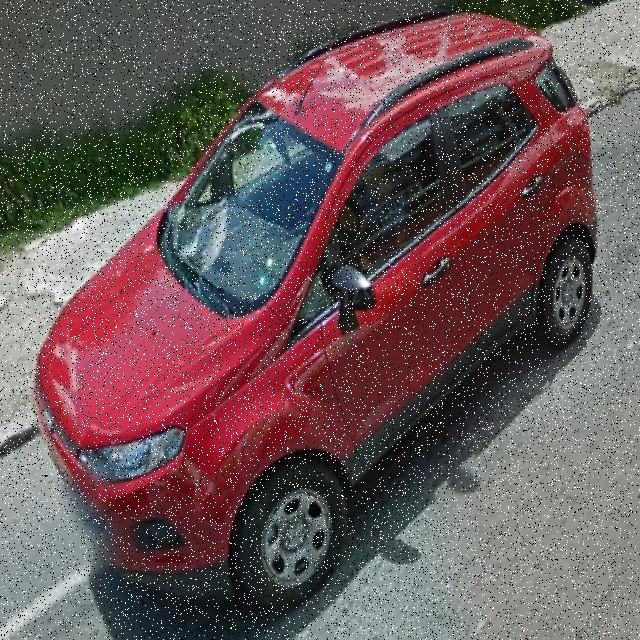cars: (30, 20, 604, 626)
